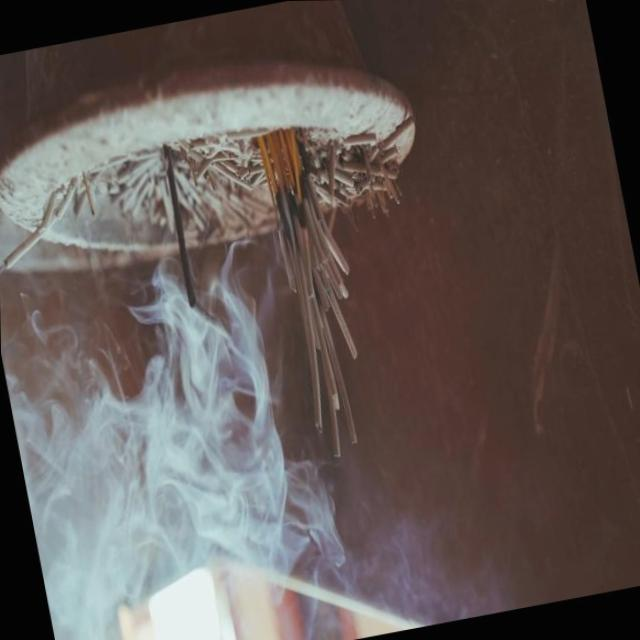smoke: (0, 265, 375, 640)
